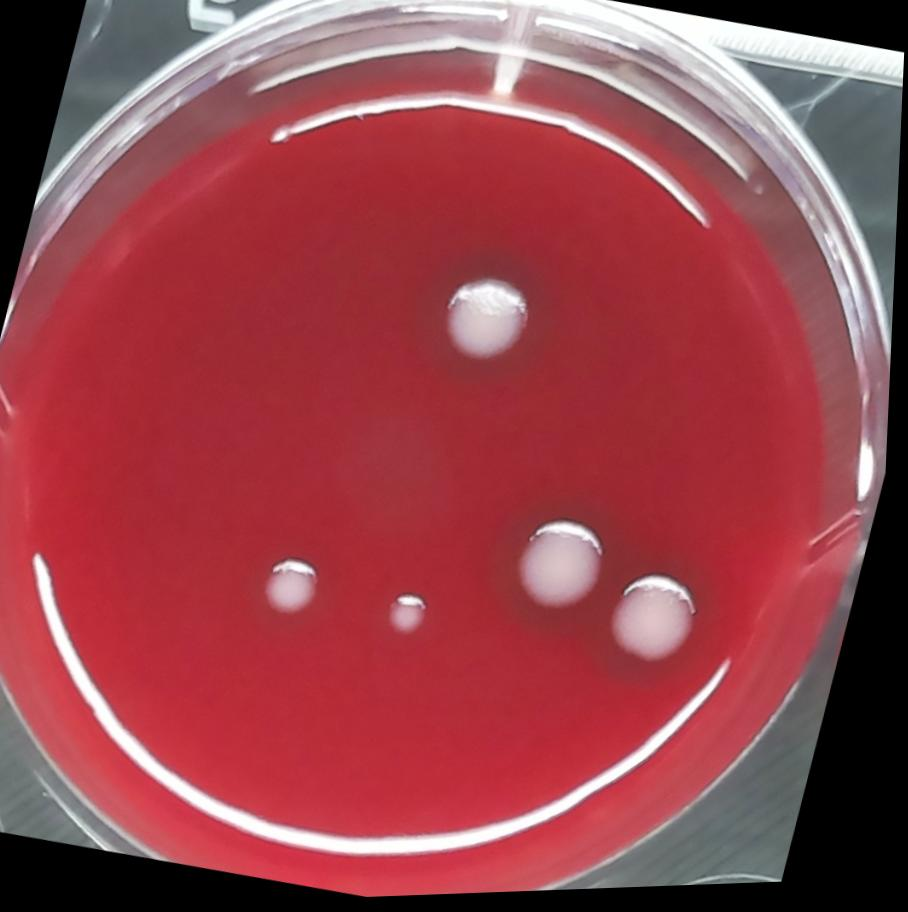staphylo-: (580, 544, 743, 705), (408, 242, 569, 397), (493, 494, 637, 643), (248, 541, 342, 641), (380, 582, 446, 648)
